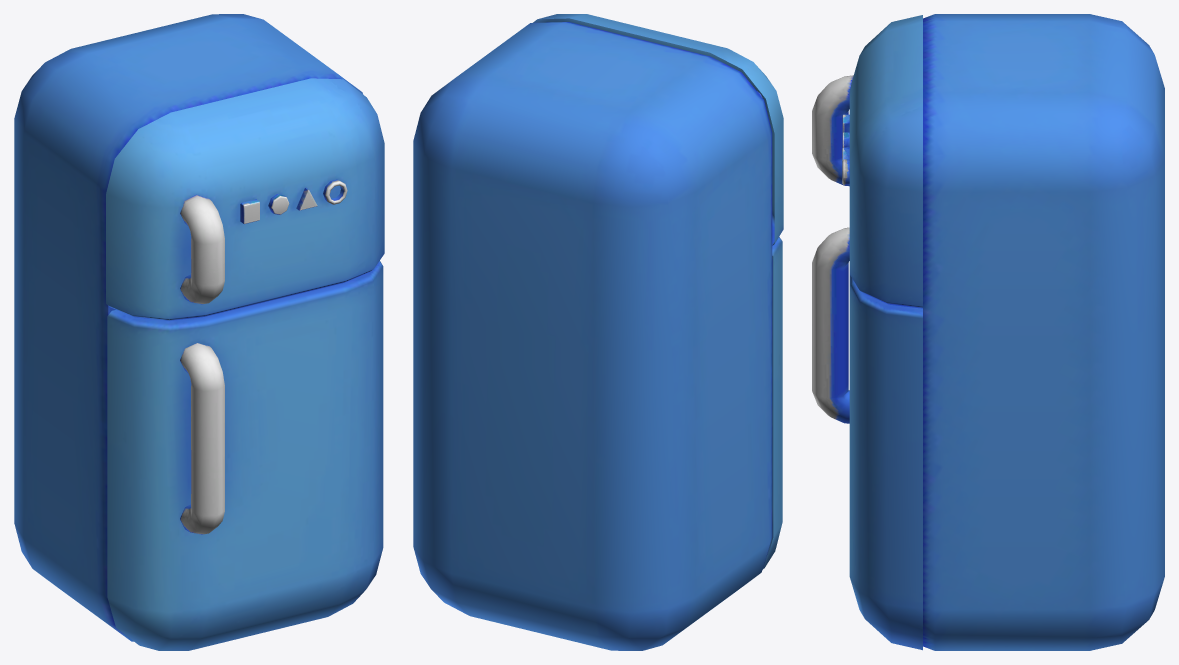
File: 0-fridge_blue.fbx
The picture shows the model from 3 angles, left to right: view 1: azimuth 30°, elevation 25°; view 2: azimuth 150°, elevation 25°; view 3: azimuth 270°, elevation 25°; orthographic projection. The views are drawn at different scales.
Parts seen in each view (by area): view 1: 0-fridge_blue; view 2: 0-fridge_blue; view 3: 0-fridge_blue.
Boxes of the visible parts, x1,y1,x2,y2 form: 0-fridge_blue: (14,14,384,650); 0-fridge_blue: (413,14,783,650); 0-fridge_blue: (812,14,1164,650).
Size of the model in its own units: 52.33 by 98.06 by 56.89.
